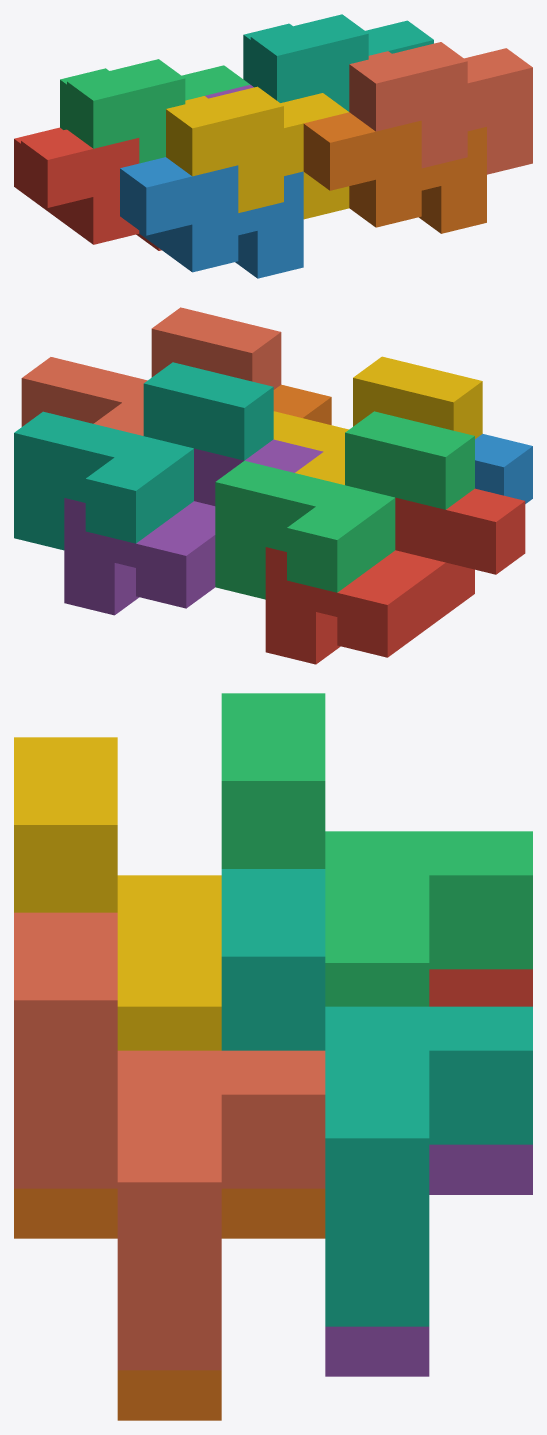
The model's file is tiling.obj.
3 views of the same model, one above another, from view 1: azimuth 30°, elevation 25°; view 2: azimuth 150°, elevation 25°; view 3: azimuth 270°, elevation 25° (orthographic). The views are drawn at different scales.
Visible parts, largest first — view 1: copy_1_domain_8, copy_1_domain_2, copy_1_domain_6, copy_1_domain_4, copy_1_domain_3, copy_1_domain_7, copy_1_domain_1; view 2: copy_1_domain_7, copy_1_domain_3, copy_1_domain_1, copy_1_domain_5, copy_1_domain_8, copy_1_domain_4, copy_1_domain_2, copy_1_domain_6; view 3: copy_1_domain_8, copy_1_domain_7, copy_1_domain_3, copy_1_domain_4, copy_1_domain_6, copy_1_domain_5, copy_1_domain_1.
Part boxes in pixels (<box>): copy_1_domain_8: <box>349,42,532,174</box>; copy_1_domain_2: <box>120,157,303,278</box>; copy_1_domain_6: <box>303,112,486,233</box>; copy_1_domain_4: <box>166,86,349,219</box>; copy_1_domain_3: <box>60,59,249,163</box>; copy_1_domain_7: <box>243,14,433,111</box>; copy_1_domain_1: <box>14,127,161,250</box>; copy_1_domain_7: <box>14,362,273,550</box>; copy_1_domain_3: <box>215,411,474,599</box>; copy_1_domain_1: <box>265,488,525,664</box>; copy_1_domain_5: <box>64,439,323,615</box>; copy_1_domain_8: <box>21,307,281,435</box>; copy_1_domain_4: <box>273,356,482,484</box>; copy_1_domain_2: <box>475,434,532,503</box>; copy_1_domain_6: <box>273,384,331,424</box>; copy_1_domain_8: <box>14,912,325,1370</box>; copy_1_domain_7: <box>221,869,532,1326</box>; copy_1_domain_3: <box>221,693,532,1006</box>; copy_1_domain_4: <box>14,737,221,1050</box>; copy_1_domain_6: <box>14,1188,325,1420</box>; copy_1_domain_5: <box>325,1144,532,1376</box>; copy_1_domain_1: <box>429,969,532,1006</box>.
Size of the model in its own units: 10 by 4 by 5.
